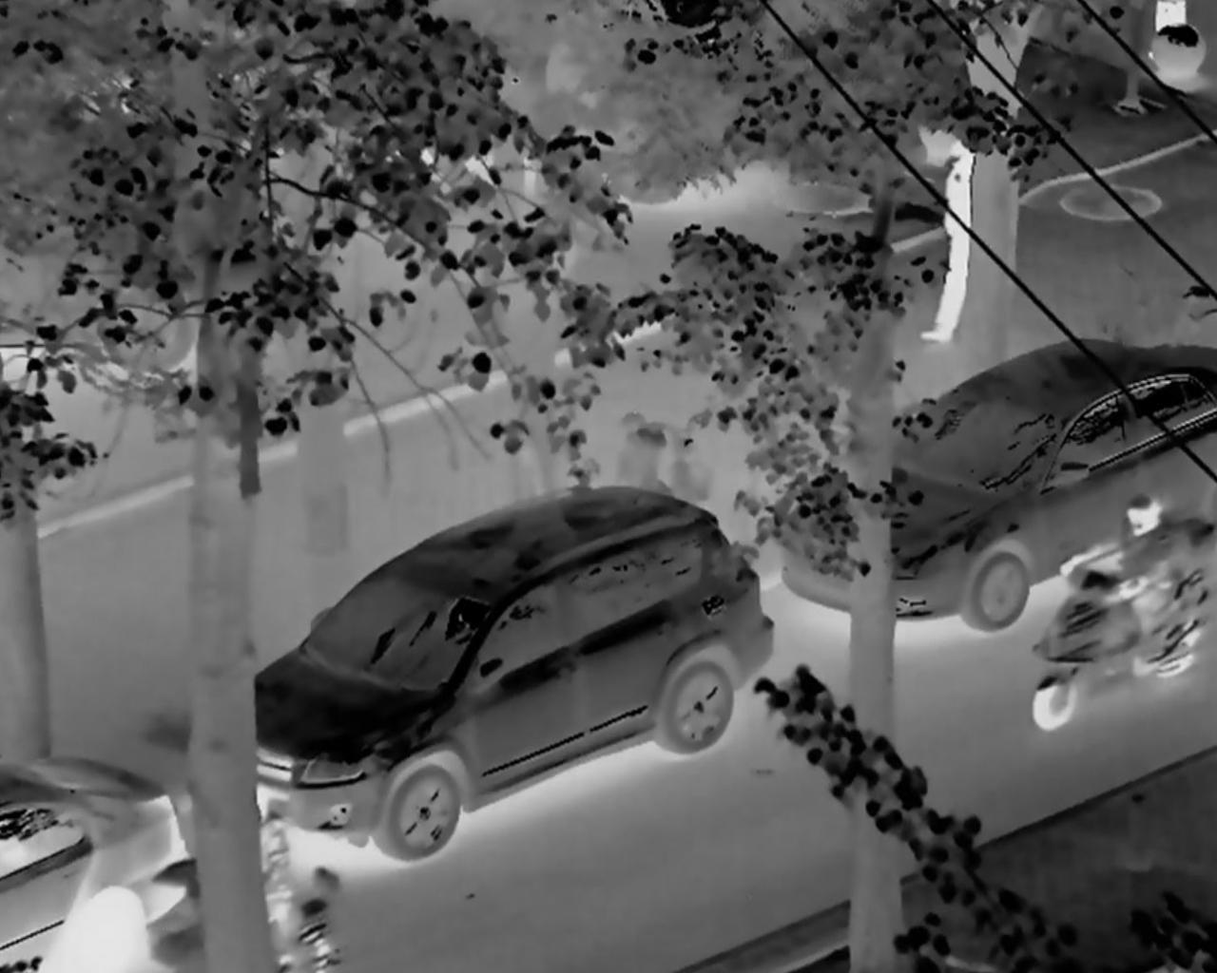person: (1060, 495, 1186, 677), (925, 143, 974, 344)
